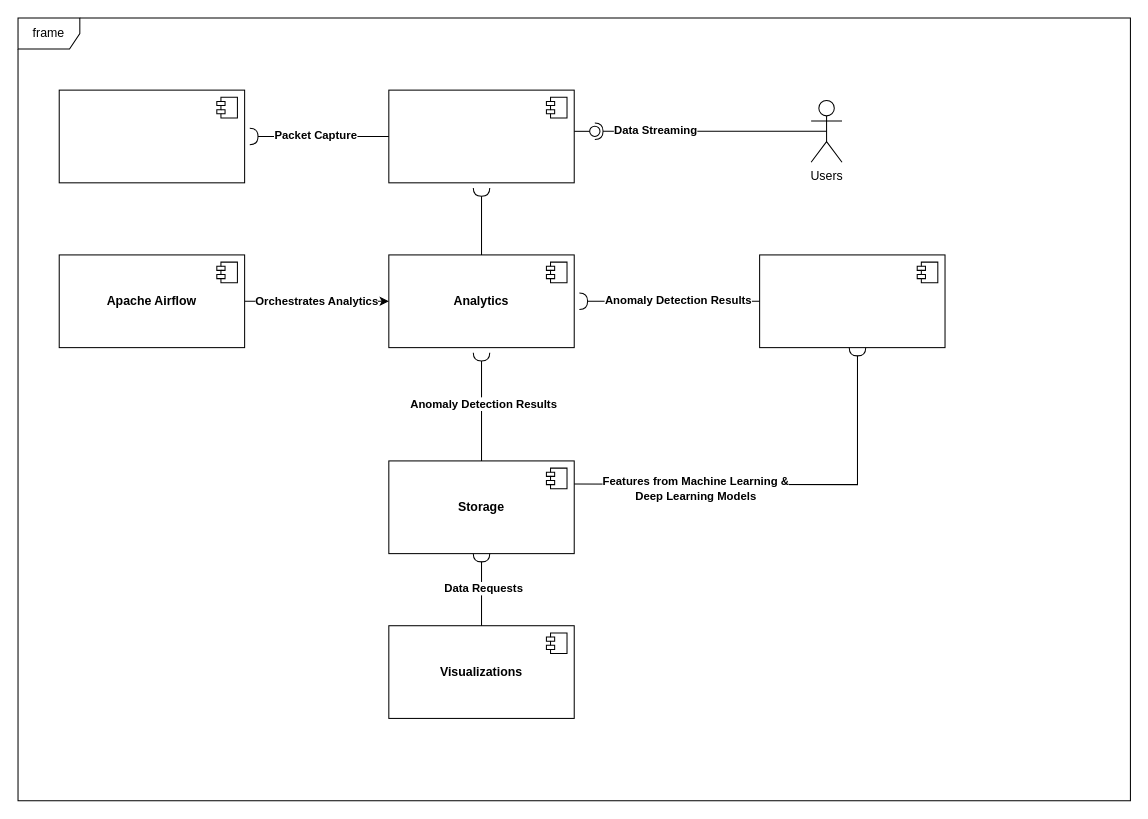
Image size: 1148x819. Some labels were removed from this diagram. The shapes that lost their labels are listed below. From the top down, each one's centre as x and y in pixels, then its label:
the point at 151,136: Packet Acquisition Engine
the point at 481,136: Apache Kafka
the point at 852,301: Processing
